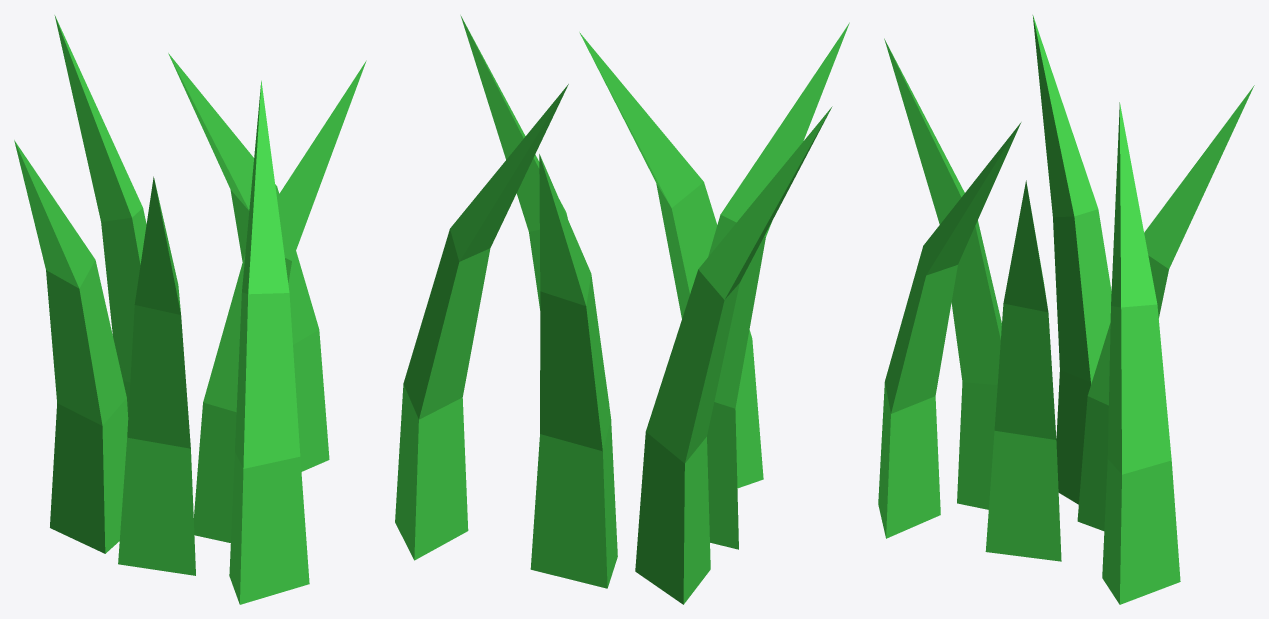
Rendered from grass.fbx.
3 views of the same model, side by side, from view 1: azimuth 30°, elevation 25°; view 2: azimuth 150°, elevation 25°; view 3: azimuth 270°, elevation 25° (orthographic). The views are drawn at different scales.
Parts seen in each view (by area): view 1: Plane; view 2: Plane; view 3: Plane.
Boxes of the visible parts, box(x1,y1,x2,y2) form: Plane: box(14, 15, 366, 604); Plane: box(395, 15, 849, 604); Plane: box(878, 15, 1254, 604).
Size of the model in its own units: 61.02 by 73.61 by 57.63.
